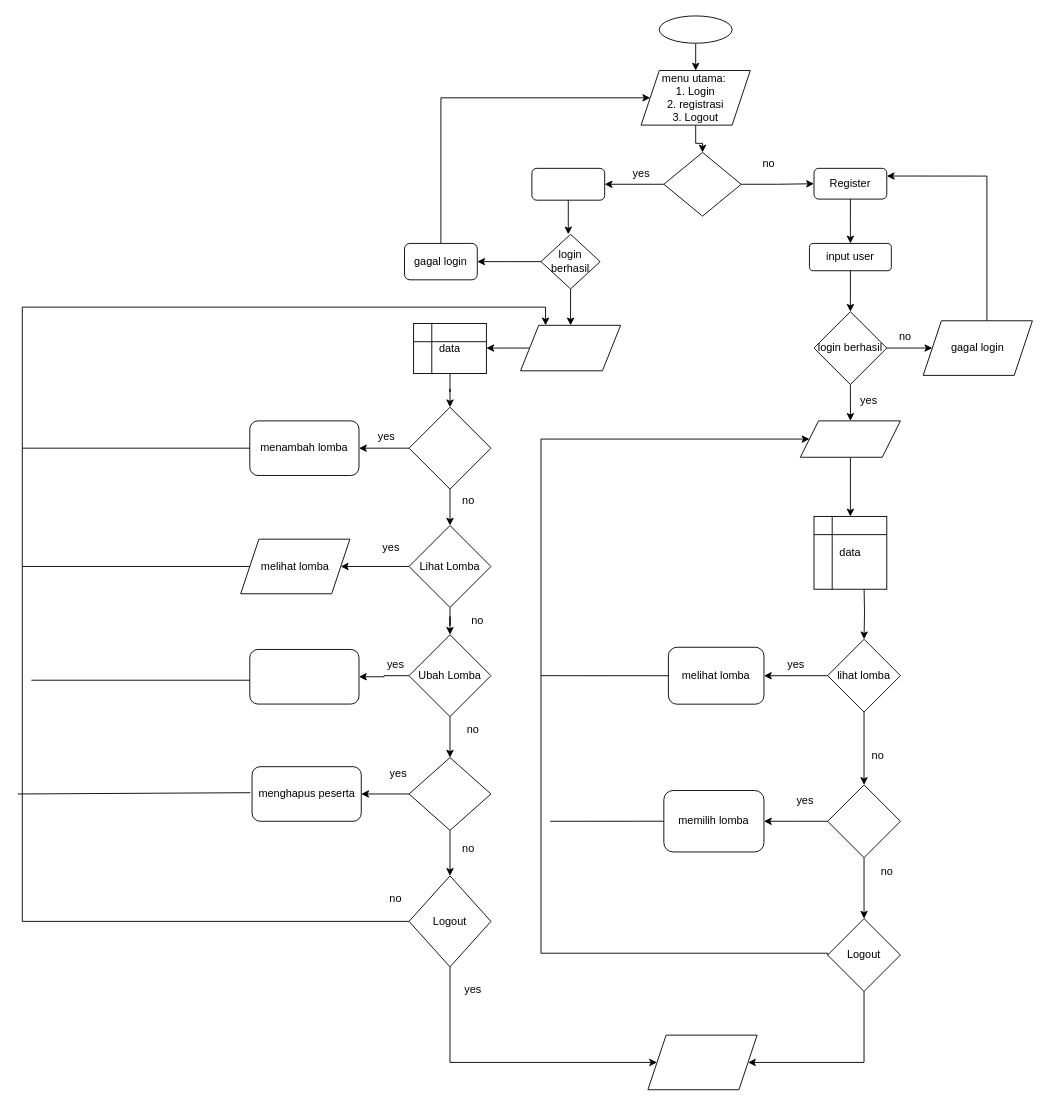
The diagram is 1048 pixels wide and 1106 high, and some of its shapes have lost their labels. Here are the shapes that lost their labels. From the top down, the centre of each, then its label:
At (x=695, y=29): "start".
At (x=568, y=183): "input login admin".
At (x=702, y=184): "login".
At (x=570, y=347): "menu admin".
At (x=449, y=447): "Tambah lomba".
At (x=849, y=438): "menu user".
At (x=304, y=676): "mengubah lomba".
At (x=449, y=793): "Hapus Lomba".
At (x=863, y=821): "Pilih Lomba".
At (x=702, y=1062): "end".
